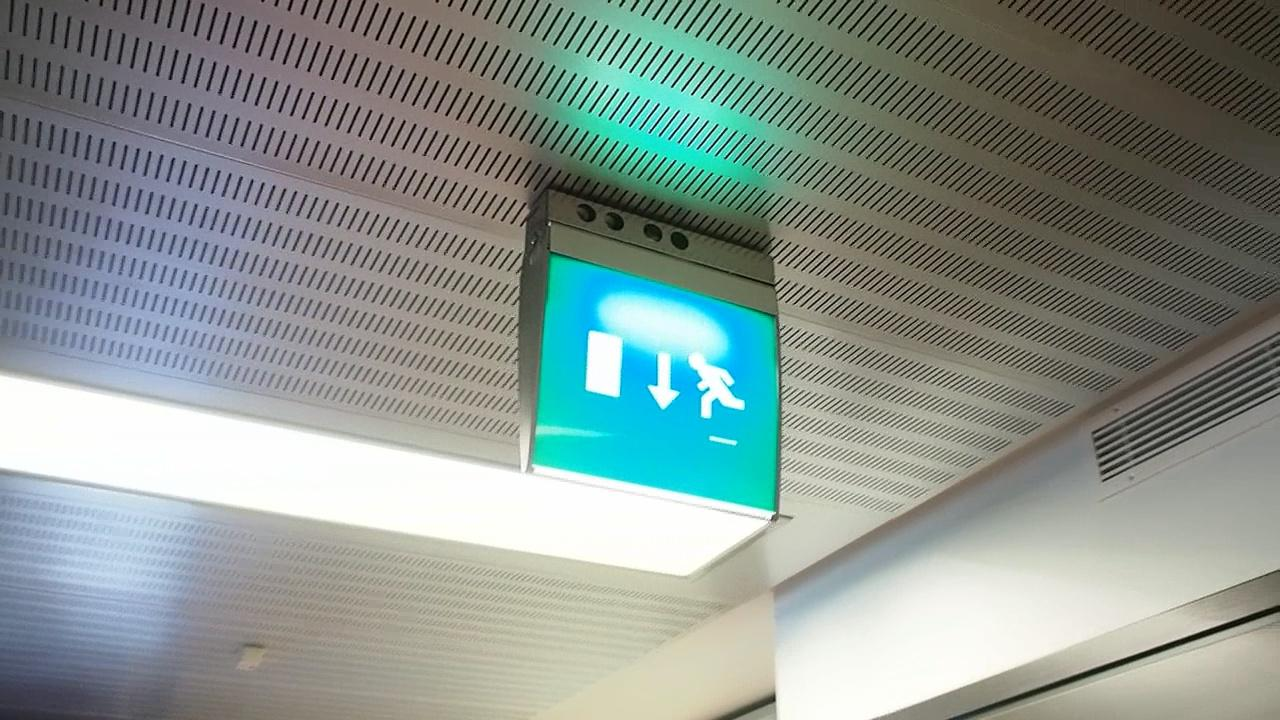exit: (533, 259, 787, 511)
